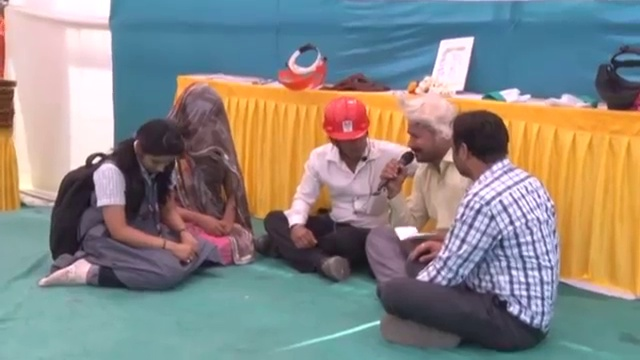helmet: (318, 95, 375, 141)
helmet_off: (450, 108, 514, 185), (170, 81, 228, 156), (405, 98, 460, 170), (126, 120, 186, 181)
helmet_on: (320, 100, 377, 167)
person: (374, 108, 562, 351), (39, 123, 212, 290), (254, 96, 407, 277), (366, 94, 480, 281), (155, 77, 255, 265)
